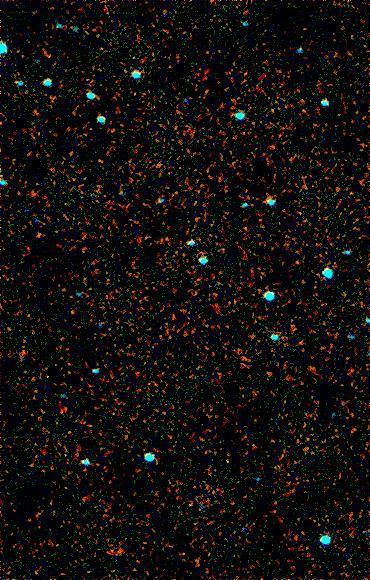star: (26, 220, 56, 250)
